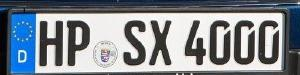0: (207, 18, 231, 65), (232, 19, 256, 65), (256, 19, 279, 65)
4: (182, 18, 207, 66)
H: (37, 19, 64, 66)
P: (64, 19, 90, 67)
S: (121, 18, 146, 66)
X: (147, 18, 173, 66)
